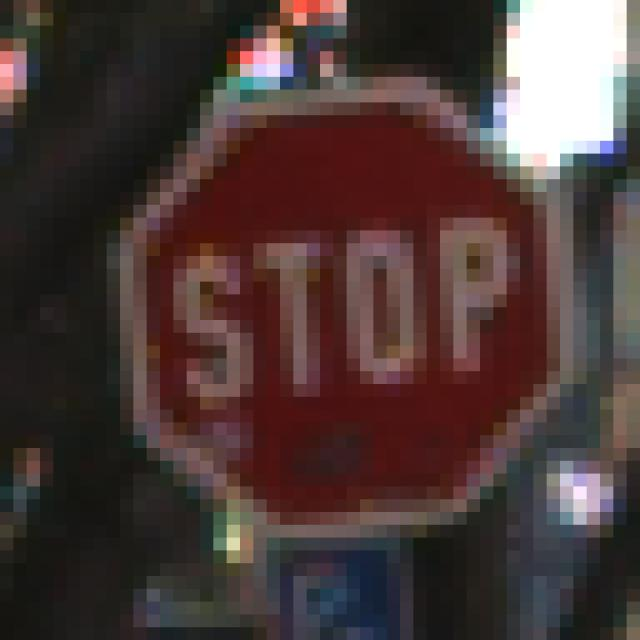STOP: (81, 65, 574, 577)
